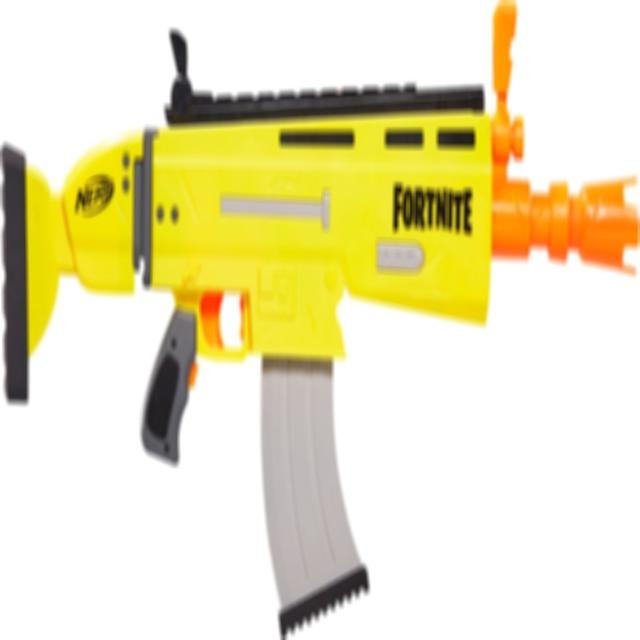Nerf gun: (0, 18, 640, 634)
